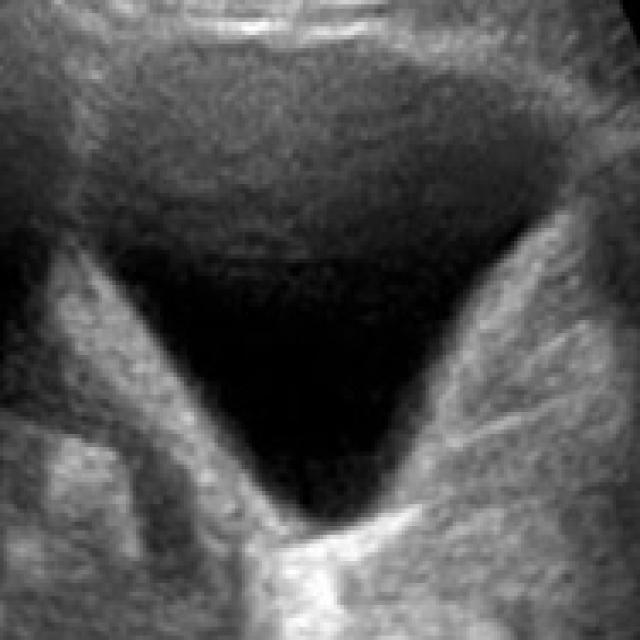bladder: (54, 16, 612, 614)
